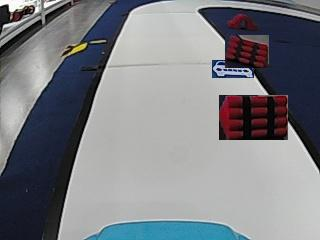bridge: (227, 14, 256, 30)
